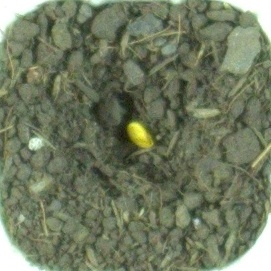pepper seed: (46, 45, 203, 195)
